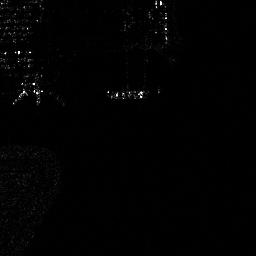ship: (105, 88, 146, 103)
